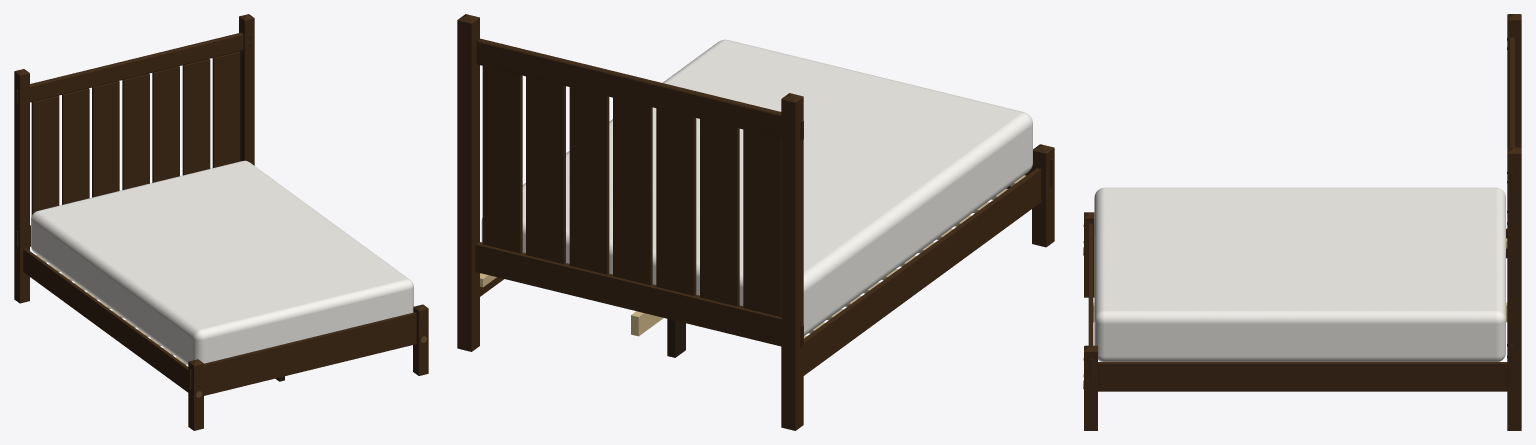
The model's file is bed-frame-bare.glb.
The picture shows the model from 3 angles, left to right: view 1: azimuth 30°, elevation 25°; view 2: azimuth 150°, elevation 25°; view 3: azimuth 270°, elevation 25°; orthographic projection. The views are drawn at different scales.
Parts seen in each view (by area): view 1: Bed mattress, Bed foot rail, Bed side rail L, Bed headboard rail top, Bed headboard post L, Bed headboard slat 1, Bed headboard slat 6, Bed headboard slat 7, Bed headboard slat 2, Bed headboard slat 5, Bed headboard slat 3, Bed headboard slat 4 (+3 smaller); view 2: Bed mattress, Bed headboard rail bottom, Bed side rail L, Bed headboard rail top, Bed headboard post L, Bed headboard post R, Bed headboard slat 3, Bed headboard slat 5, Bed headboard slat 7, Bed headboard slat 4, Bed headboard slat 2, Bed headboard slat 6 (+3 smaller); view 3: Bed mattress, Bed side rail R, Bed headboard post R, Bed headboard post L, Bed foot leg R, Bed headboard rail top, Bed foot rail, Bed foot leg L.
Boxes of the visible parts, left/top/right/bottom form: Bed mattress: left=31, top=160, right=413, bottom=364; Bed foot rail: left=204, top=312, right=416, bottom=395; Bed side rail L: left=23, top=248, right=188, bottom=392; Bed headboard rail top: left=30, top=32, right=243, bottom=102; Bed headboard post L: left=14, top=72, right=29, bottom=303; Bed headboard slat 1: left=31, top=95, right=59, bottom=215; Bed headboard slat 6: left=182, top=59, right=210, bottom=175; Bed headboard slat 7: left=212, top=51, right=240, bottom=167; Bed headboard slat 2: left=62, top=88, right=89, bottom=204; Bed headboard slat 5: left=152, top=66, right=179, bottom=182; Bed headboard slat 3: left=92, top=81, right=119, bottom=197; Bed headboard slat 4: left=122, top=73, right=149, bottom=190; Bed mattress: left=481, top=39, right=1032, bottom=335; Bed headboard rail bottom: left=475, top=242, right=781, bottom=346; Bed side rail L: left=803, top=168, right=1041, bottom=375; Bed headboard rail top: left=476, top=38, right=781, bottom=138; Bed headboard post L: left=781, top=97, right=803, bottom=430; Bed headboard post R: left=457, top=18, right=479, bottom=351; Bed headboard slat 3: left=656, top=108, right=696, bottom=295; Bed headboard slat 5: left=569, top=87, right=609, bottom=274; Bed headboard slat 7: left=482, top=66, right=522, bottom=253; Bed headboard slat 4: left=613, top=97, right=652, bottom=285; Bed headboard slat 2: left=700, top=119, right=739, bottom=306; Bed headboard slat 6: left=526, top=76, right=565, bottom=263; Bed mattress: left=1094, top=187, right=1505, bottom=361; Bed side rail R: left=1098, top=362, right=1507, bottom=391; Bed headboard post R: left=1507, top=153, right=1521, bottom=430; Bed headboard post L: left=1507, top=20, right=1521, bottom=147; Bed foot leg R: left=1084, top=352, right=1097, bottom=430; Bed headboard rail top: left=1508, top=37, right=1514, bottom=147; Bed foot rail: left=1088, top=223, right=1093, bottom=345; Bed foot leg L: left=1084, top=218, right=1094, bottom=297.
Bounding box in the file's own units: 1.65 × 1.53 × 2.16.
Materials: 9 (1 with a texture image).
